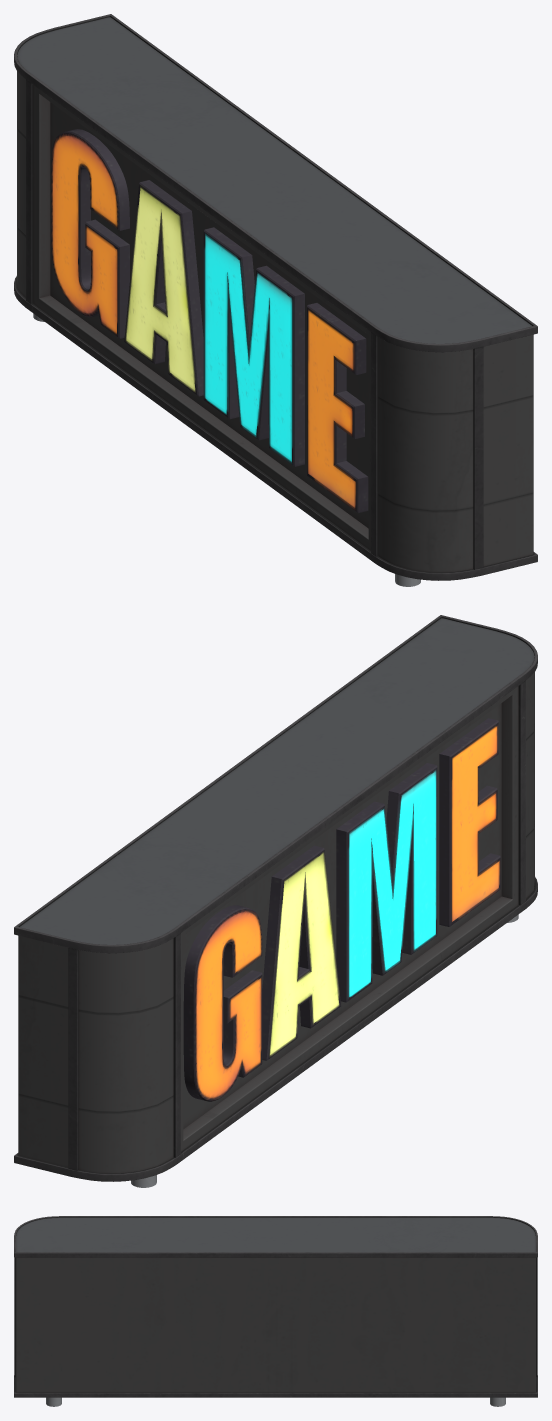
Rendered from SM_ScreenHolder_01.fbx.
3 views of the same model, one above another, from view 1: azimuth 30°, elevation 25°; view 2: azimuth 150°, elevation 25°; view 3: azimuth 270°, elevation 25° (orthographic). The views are drawn at different scales.
Visible parts, largest first — view 1: SM_ScreenHolder_01_LOD0; view 2: SM_ScreenHolder_01_LOD0; view 3: SM_ScreenHolder_01_LOD0.
Part boxes in pixels (x1,y1,x2,y2): SM_ScreenHolder_01_LOD0: (14, 14, 537, 586); SM_ScreenHolder_01_LOD0: (14, 615, 537, 1187); SM_ScreenHolder_01_LOD0: (14, 1216, 537, 1406).
Size of the model in its own units: 52.36 by 312 by 103.
Materials: 2 (2 with a texture image).
